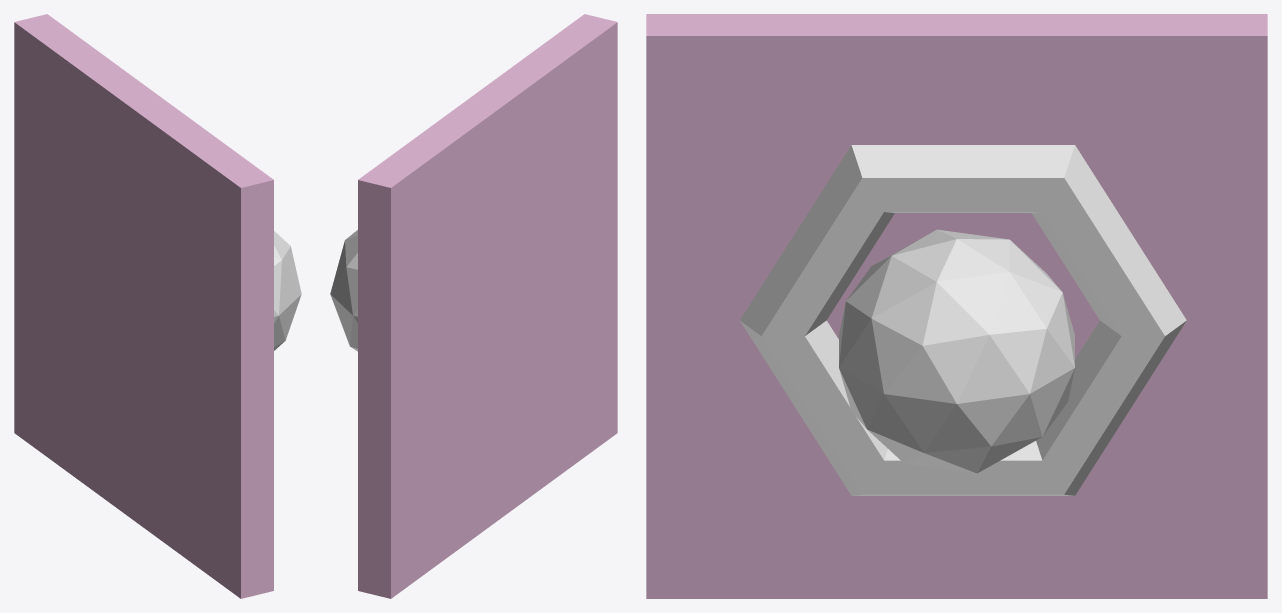
3 views of the same model, side by side, from view 1: azimuth 30°, elevation 25°; view 2: azimuth 150°, elevation 25°; view 3: azimuth 270°, elevation 25° (orthographic). The views are drawn at different scales.
Visible parts, largest first — view 1: Torus; view 2: Torus; view 3: Torus.
Part boxes in pixels (x1,y1,x2,y2): Torus: (14, 14, 301, 598); Torus: (330, 14, 617, 598); Torus: (646, 14, 1267, 598).
Size of the model in its own units: 82.76 by 200 by 200.
